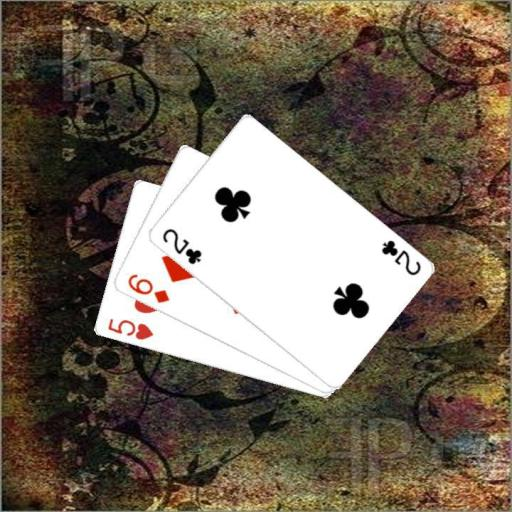2C: (159, 225, 204, 266), (378, 237, 423, 277)
5H: (104, 315, 154, 342)
6D: (124, 270, 171, 305)
